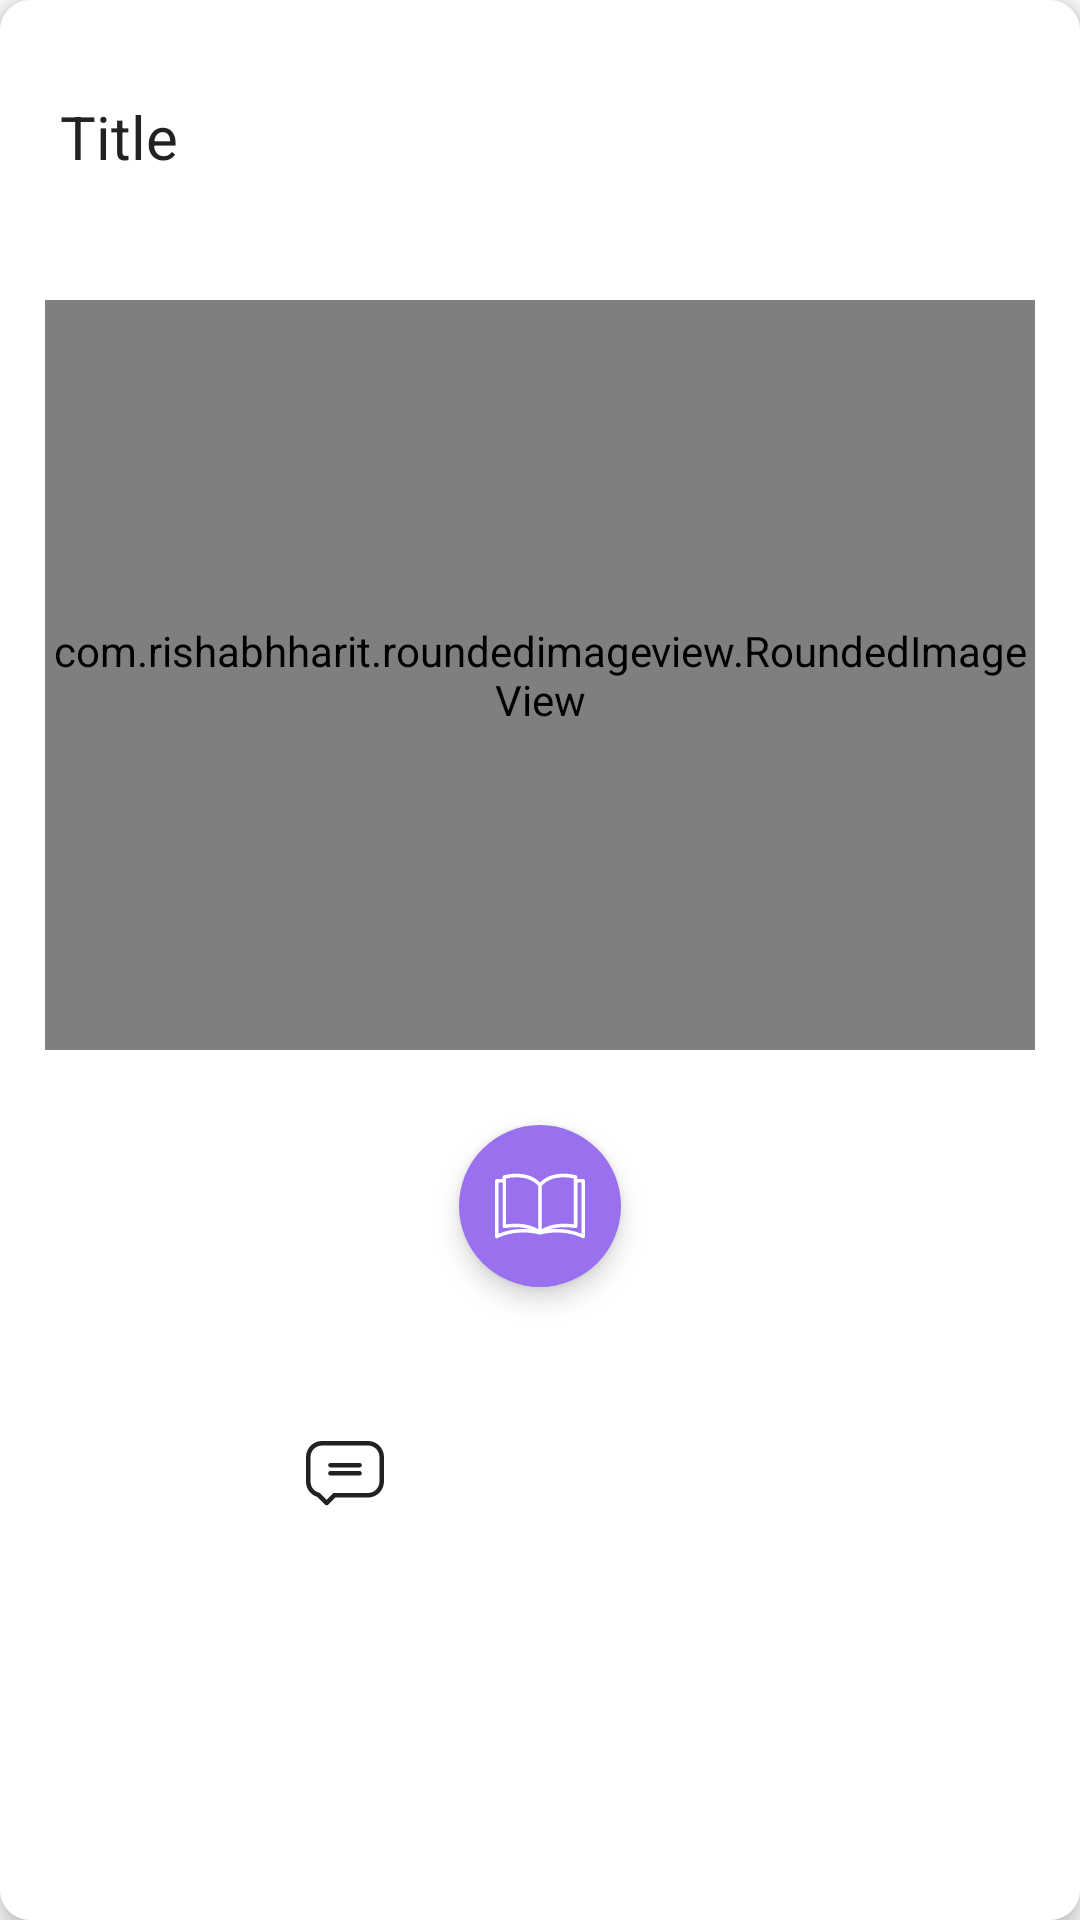

Icons on this 1080w x 1920h Android screen, each with its box as (x1, y1, x2, y2):
book: (459, 1125, 621, 1287)
comment: (306, 1441, 384, 1506)
